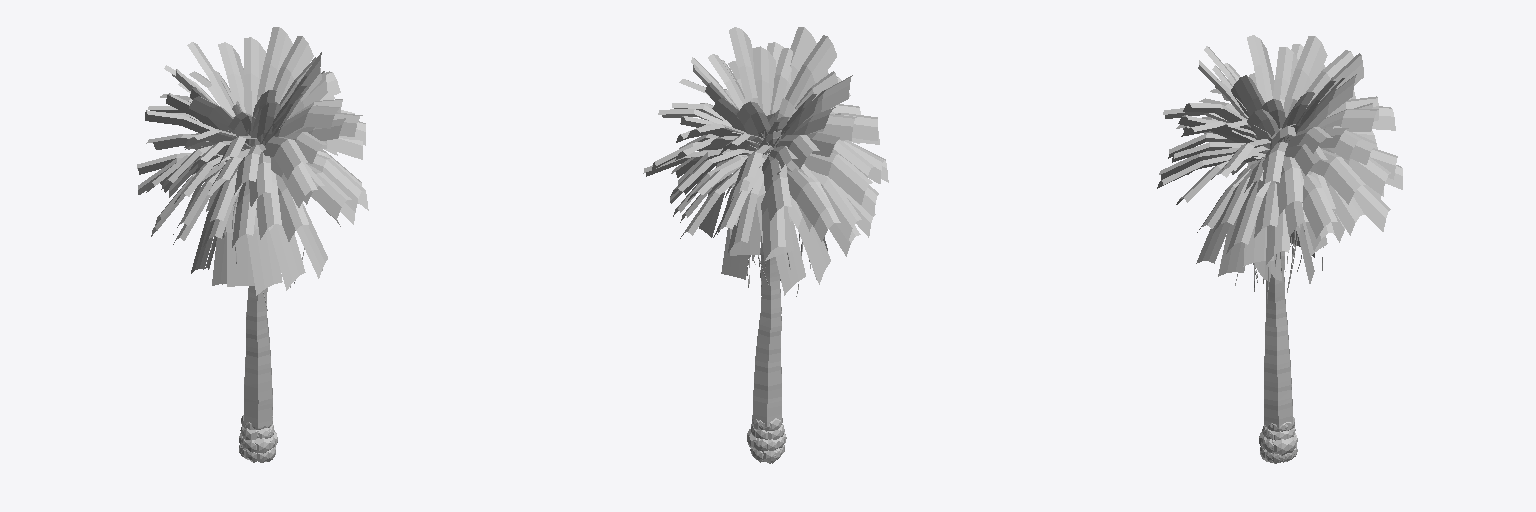
The model's file is Palm.obj.
The picture shows the model from 3 angles: view 1: azimuth 30°, elevation 25°; view 2: azimuth 150°, elevation 25°; view 3: azimuth 270°, elevation 25°; orthographic projection.
Visible parts, largest first — view 1: Date_Palm; view 2: Date_Palm; view 3: Date_Palm.
Boxes of the visible parts, <box> form: Date_Palm: <box>137,27,368,462</box>; Date_Palm: <box>643,27,888,463</box>; Date_Palm: <box>1157,35,1402,463</box>.
Size of the model in its own units: 8.68 by 16.47 by 8.99.